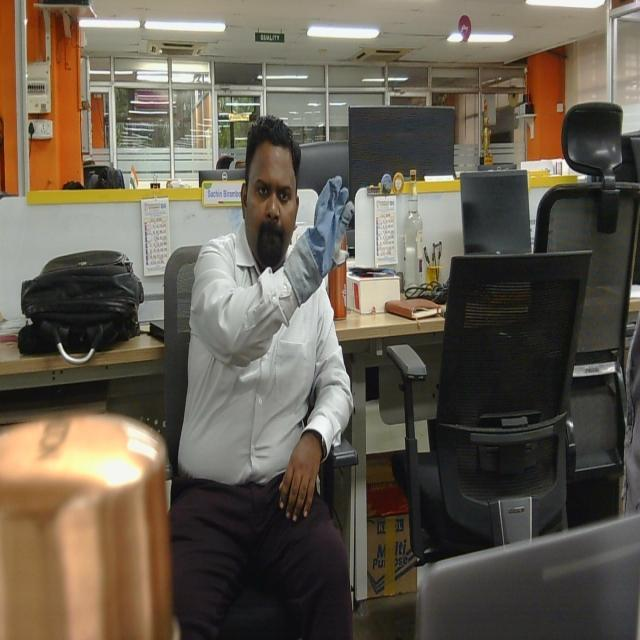Gloves-Detection: (282, 171, 356, 316)
